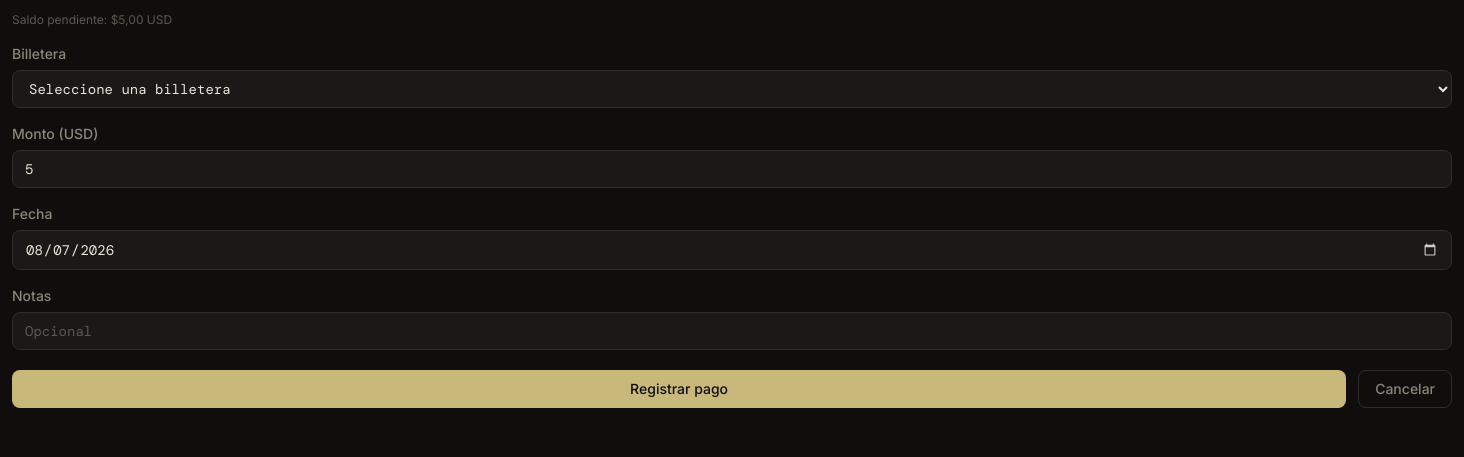
Test: PersonalDebtPaymentForm — indexed debt › shows a rate field, autofilled, once a wallet in a different currency is picked
Select "Efectivo Bs" in the dropdown labelled "Billetera": (732, 89) [12,70,1452,108]
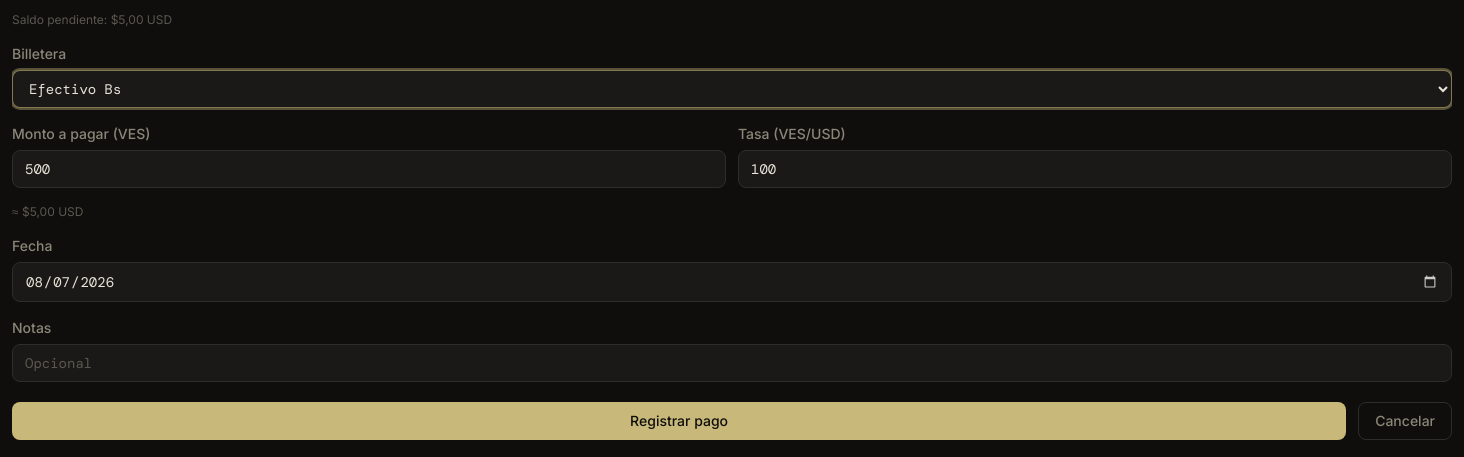
Now the number field labelled "Tasa (VES/USD)" holds "100", box [738,150,1452,188]
